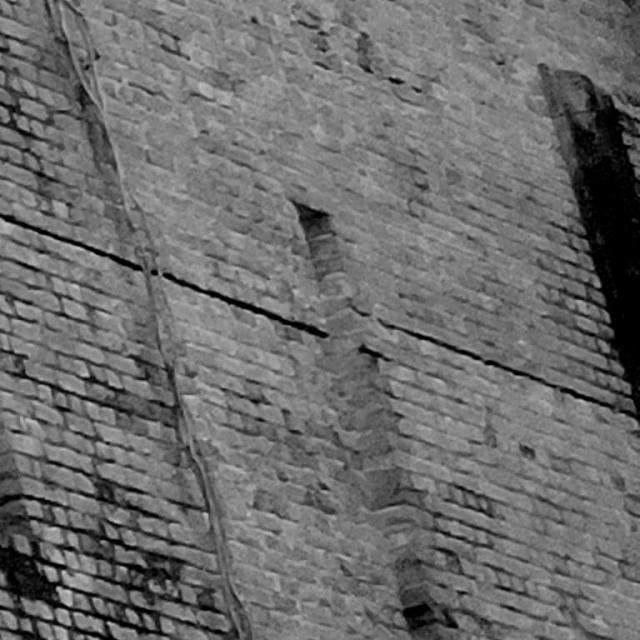crack: (1, 212, 330, 338), (351, 304, 640, 417), (358, 344, 392, 363)
